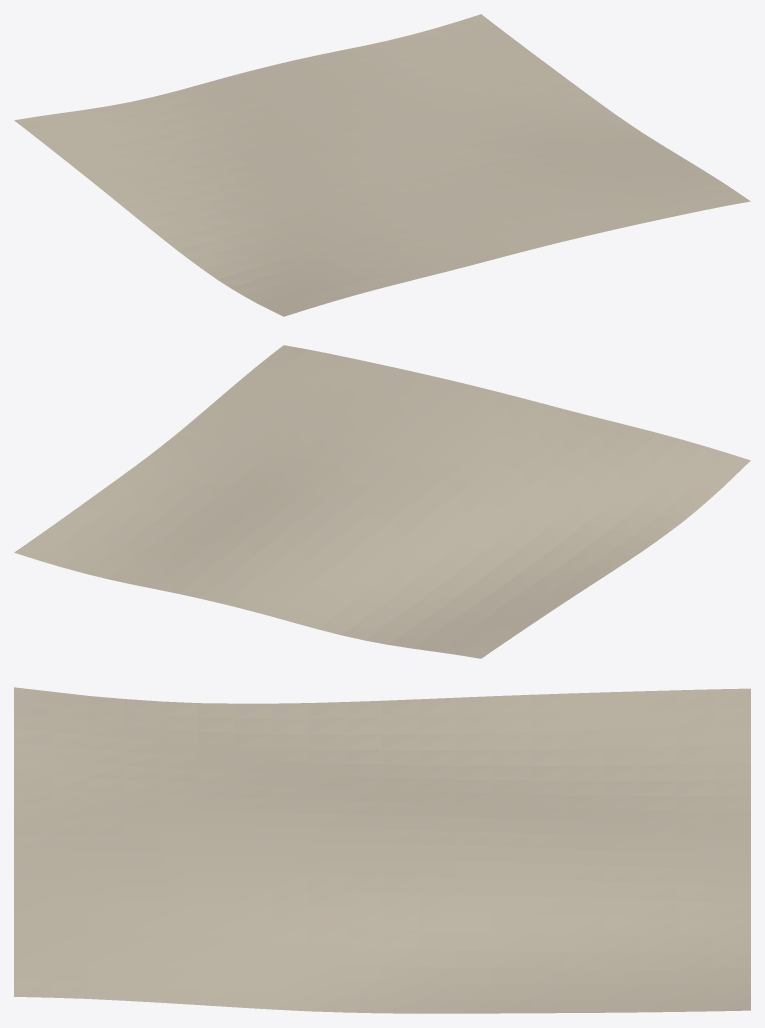
File: bolak_-9_13.glb
3 views of the same model, one above another, from view 1: azimuth 30°, elevation 25°; view 2: azimuth 150°, elevation 25°; view 3: azimuth 270°, elevation 25° (orthographic). The views are drawn at different scales.
Parts seen in each view (by area): view 1: Yer_Tuproq-col; view 2: Yer_Tuproq-col; view 3: Yer_Tuproq-col.
Boxes of the visible parts, x1,y1,x2,y2 form: Yer_Tuproq-col: (14,14,750,316); Yer_Tuproq-col: (14,345,750,658); Yer_Tuproq-col: (14,687,750,1013).
Size of the model in its own units: 400 by 16.01 by 400.
